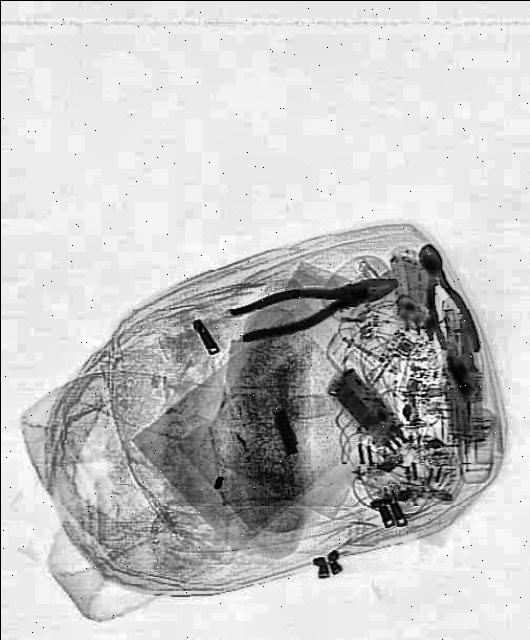Pliers: (228, 257, 402, 347), (402, 234, 482, 364)
